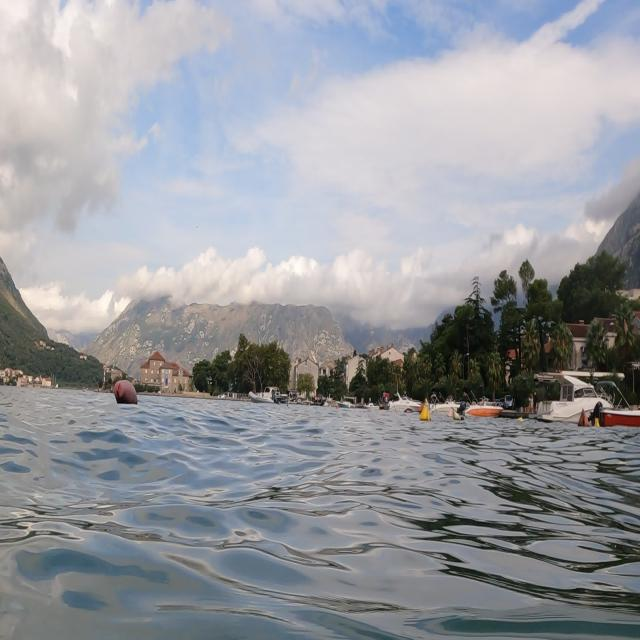boat: (528, 364, 618, 436), (594, 389, 640, 441), (373, 376, 425, 416), (460, 390, 507, 420), (249, 376, 289, 410)
buoy: (108, 374, 143, 414), (417, 396, 432, 426)
